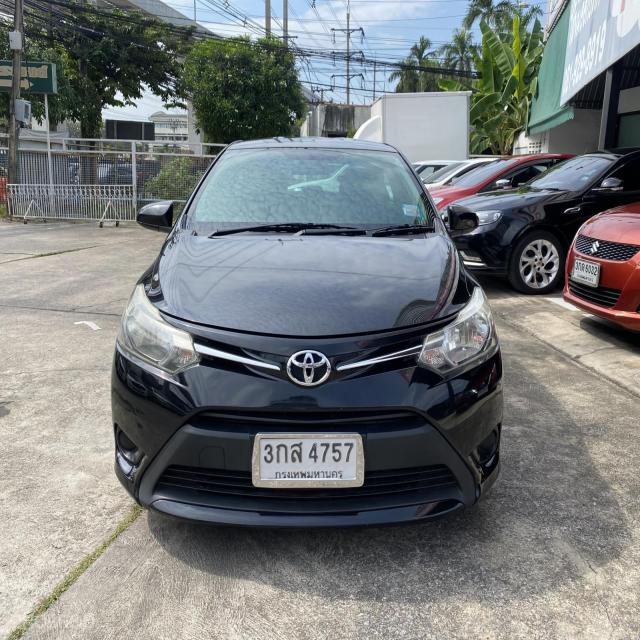license_plate: (252, 434, 366, 489), (570, 255, 602, 287)
